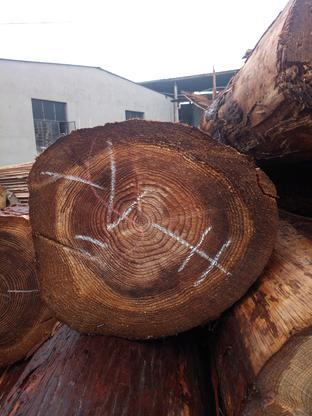mood: (28, 120, 278, 340)
